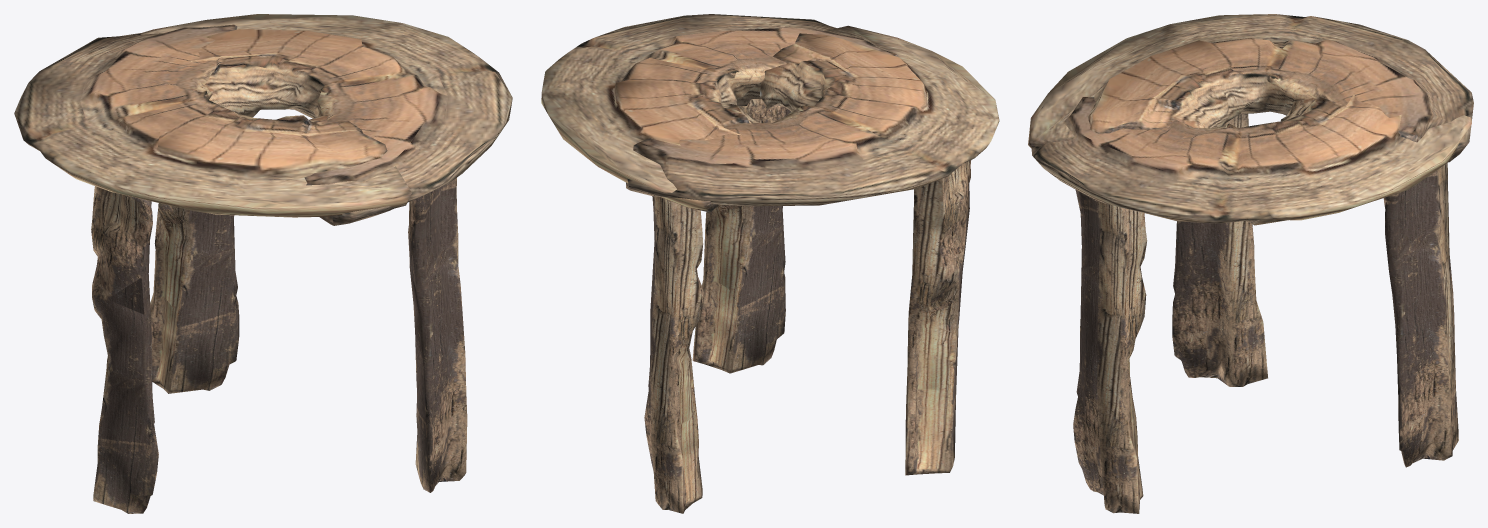
The model's file is Chair4.fbx.
3 renders of one model, left to right at view 1: azimuth 30°, elevation 25°; view 2: azimuth 150°, elevation 25°; view 3: azimuth 270°, elevation 25°, orthographic. The views are drawn at different scales.
Visible parts, largest first — view 1: chair4_lod0; view 2: chair4_lod0; view 3: chair4_lod0.
Part boxes in pixels (x1=…): chair4_lod0: x1=14, y1=14, x2=512, y2=513; chair4_lod0: x1=541, y1=14, x2=999, y2=513; chair4_lod0: x1=1028, y1=14, x2=1473, y2=513.
Size of what is drawn, in the model's own units: 57.86 by 47.03 by 53.62.
